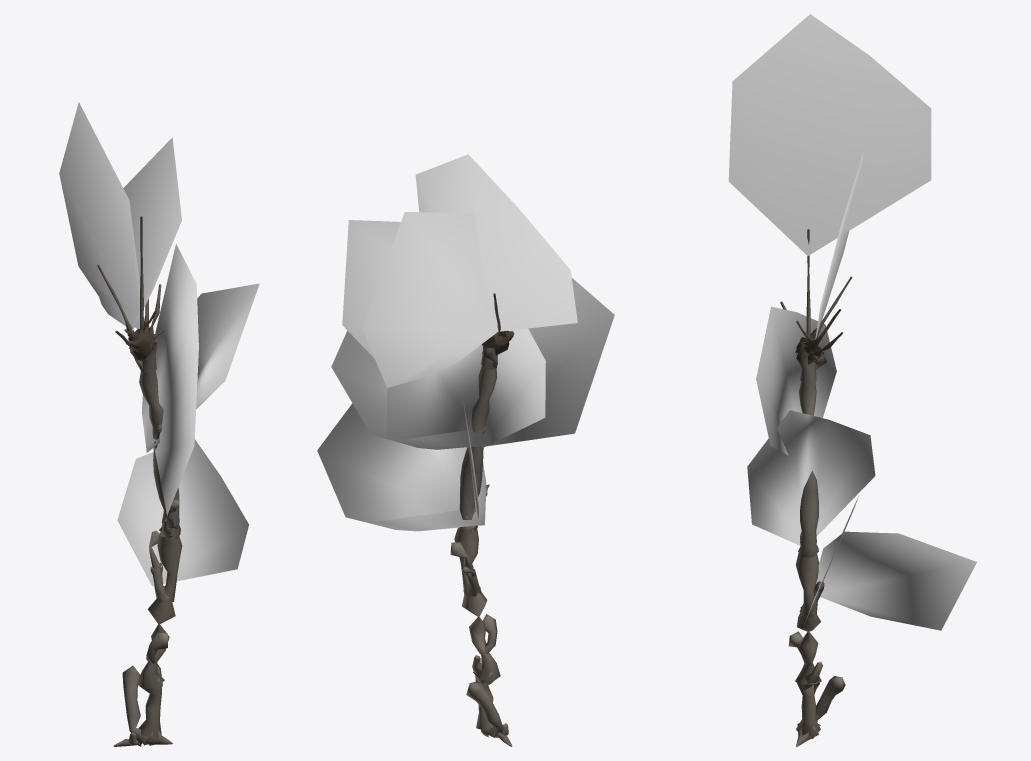
File: slender_5.glb
The picture shows the model from 3 angles, left to right: view 1: azimuth 30°, elevation 25°; view 2: azimuth 150°, elevation 25°; view 3: azimuth 270°, elevation 25°; orthographic projection. The views are drawn at different scales.
Visible parts, largest first — view 1: slender_5; view 2: slender_5; view 3: slender_5.
Part boxes in pixels (bbox=[...]): slender_5: bbox=[59, 102, 259, 746]; slender_5: bbox=[317, 154, 614, 746]; slender_5: bbox=[728, 14, 976, 746].
Bounding box in the file's own units: 3.14 × 8.87 × 4.25.
